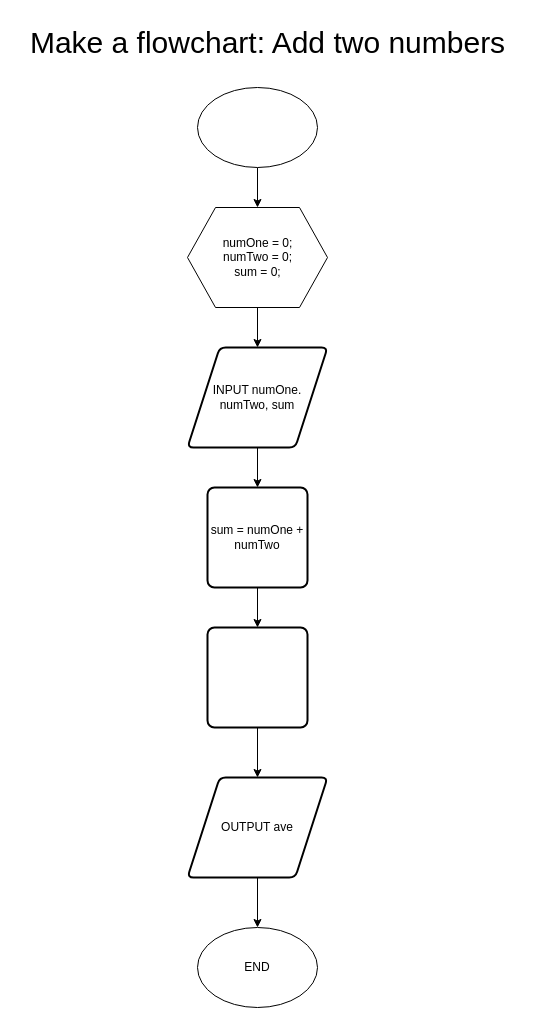
The diagram is 534 pixels wide and 1025 high, and some of its shapes have lost their labels. Here are the shapes that lost their labels. From the top down, the centre of each, then its label:
point (257, 127): START
point (257, 677): ave = sum / 2
